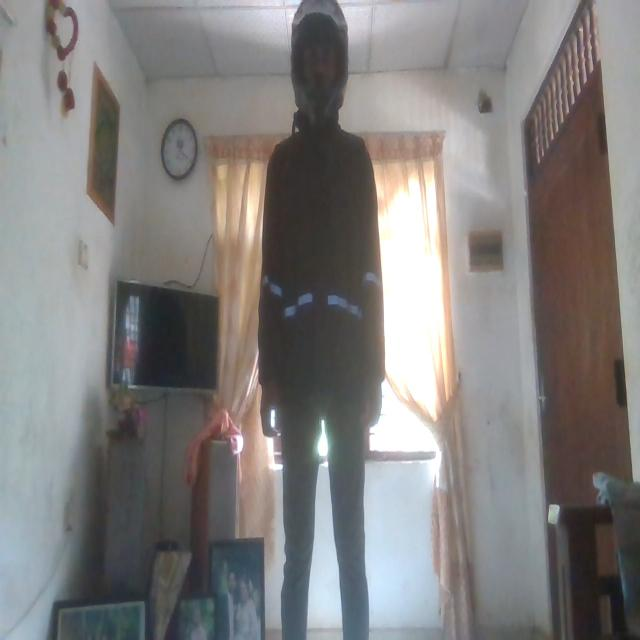Helmet_Wearer: (288, 0, 351, 124)
Jacket_Wearer: (260, 121, 386, 437)
Person: (256, 0, 385, 636)
